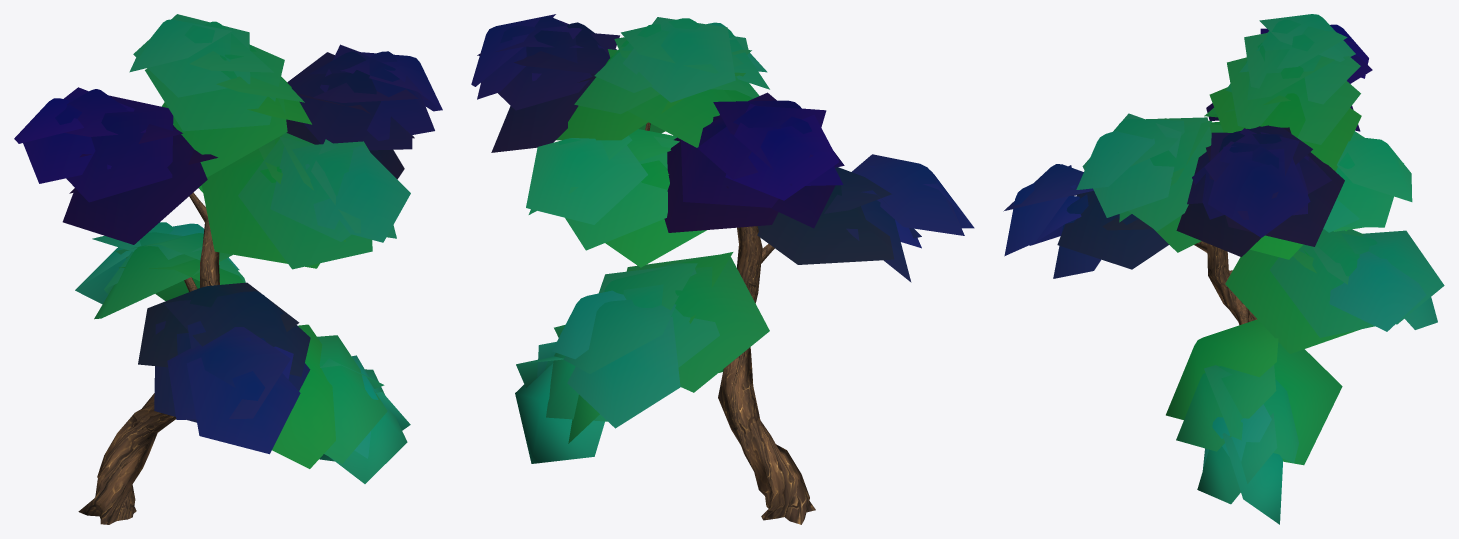
Rendered from FantasyTree19.fbx.
3 views of the same model, side by side, from view 1: azimuth 30°, elevation 25°; view 2: azimuth 150°, elevation 25°; view 3: azimuth 270°, elevation 25° (orthographic). The views are drawn at different scales.
Visible parts, largest first — view 1: fantasyleaf4_alpha_1, tree2_0; view 2: fantasyleaf4_alpha_1, tree2_0; view 3: fantasyleaf4_alpha_1, tree2_0.
Boxes of the visible parts, bbox=[...] form: fantasyleaf4_alpha_1: bbox=[14, 14, 442, 483]; tree2_0: bbox=[78, 192, 219, 524]; fantasyleaf4_alpha_1: bbox=[471, 14, 974, 463]; tree2_0: bbox=[645, 122, 815, 524]; fantasyleaf4_alpha_1: bbox=[1003, 14, 1444, 524]; tree2_0: bbox=[1194, 241, 1257, 325].
Bounding box in the file's own units: 473 × 551 × 507.
Materials: 1 (1 with a texture image).
